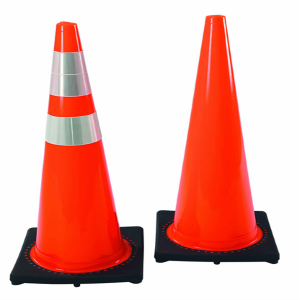traffic cone: (10, 21, 144, 283), (154, 15, 280, 261)
